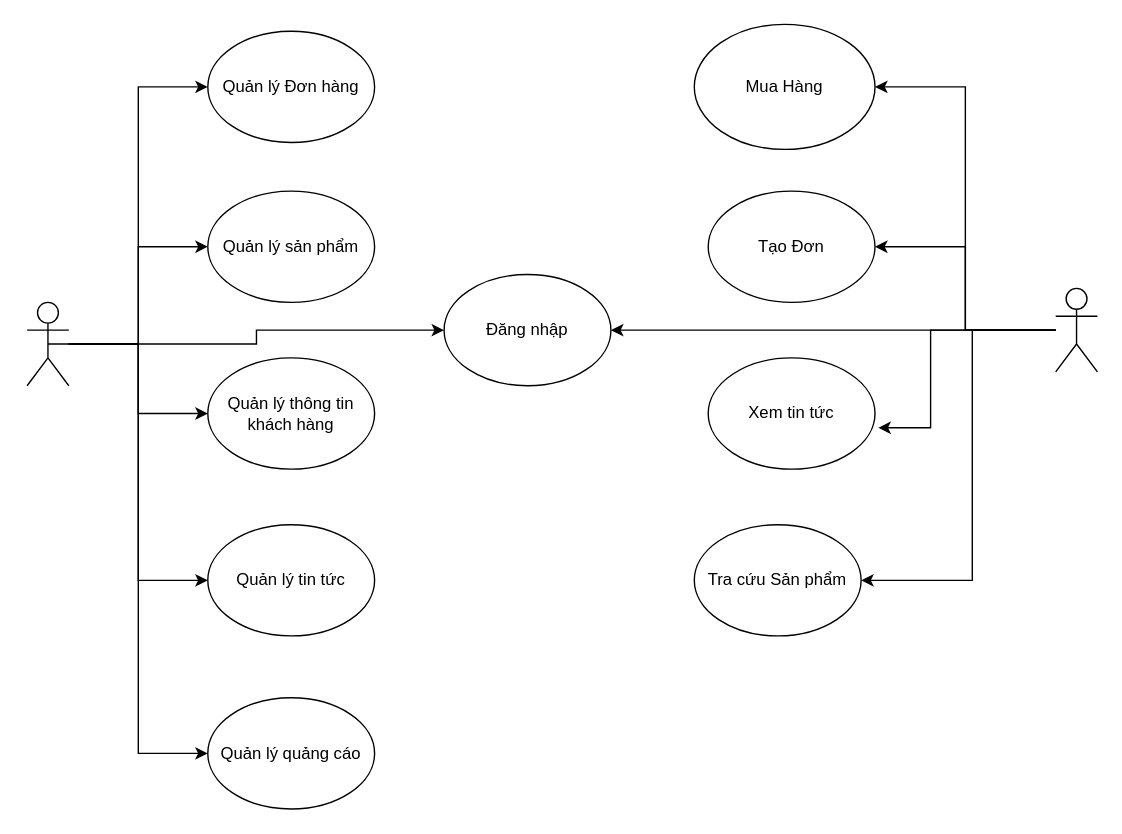
The diagram is 1122 pixels wide and 834 high, and some of its shapes have lost their labels. The box of each missing label's shape, as (x1, y1, x2, y2) in pixels:
Admin: (26, 301, 69, 386)
Guest: (1054, 287, 1097, 372)
